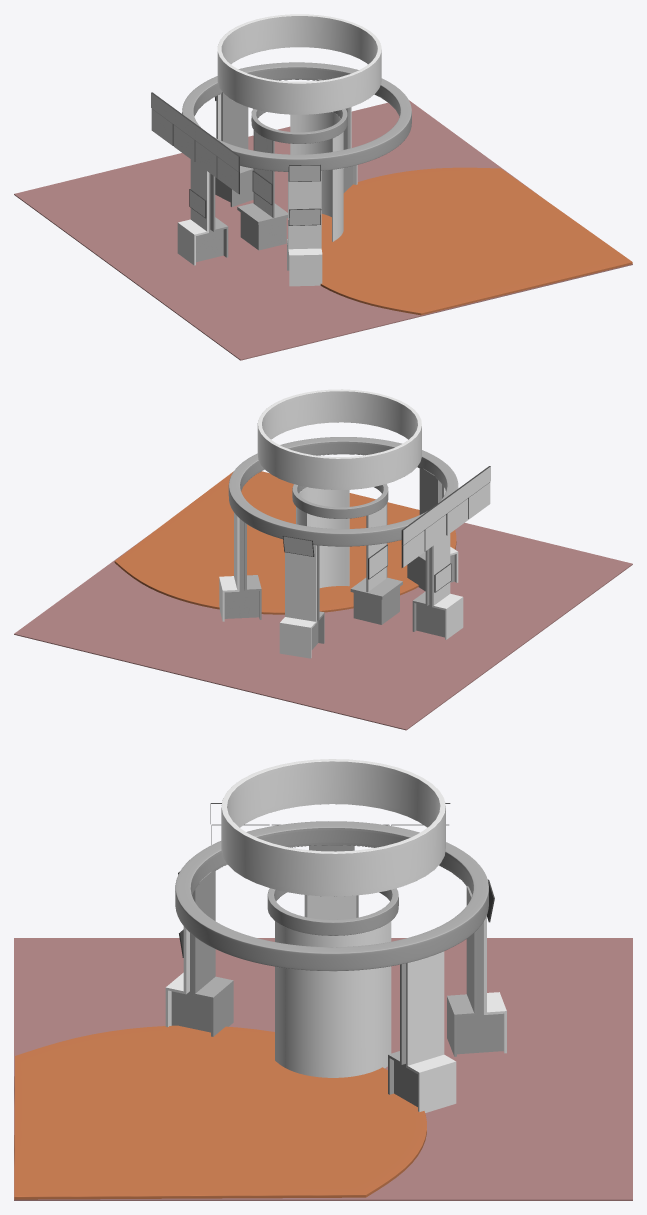
File: Dw_booth_V_02_GLTF.gltf
The picture shows the model from 3 angles, top to bottom: view 1: azimuth 30°, elevation 25°; view 2: azimuth 150°, elevation 25°; view 3: azimuth 270°, elevation 25°; orthographic projection. The views are drawn at different scales.
Visible parts, largest first — view 1: pPlane1, pCylinder1, polySurface26, polySurface22, polySurface62, polySurface67, polySurface69_node_0, polySurface19, polySurface59, polySurface36, pCube7, polySurface67_node_1 (+13 smaller); view 2: pPlane1, pCylinder1, polySurface26, polySurface22, polySurface62, polySurface67_node_0, polySurface19, polySurface59, polySurface36, polySurface71_node, polySurface69, pCube7 (+14 smaller); view 3: pPlane1, pCylinder1, polySurface26, polySurface62, polySurface22, polySurface67_node, polySurface19, polySurface69, polySurface59, polySurface71_node_0, polySurface69_node_0, polySurface27_node (+6 smaller).
Boxes of the visible parts, <box> form: pPlane1: <box>14,100,632,360</box>; pCylinder1: <box>320,167,632,315</box>; polySurface26: <box>217,14,381,114</box>; polySurface22: <box>182,62,411,171</box>; polySurface62: <box>290,112,343,241</box>; polySurface67: <box>288,171,322,256</box>; polySurface69_node_0: <box>221,92,253,206</box>; polySurface19: <box>193,67,400,116</box>; polySurface59: <box>251,108,347,143</box>; polySurface36: <box>151,93,238,171</box>; pCube7: <box>240,212,286,250</box>; polySurface67_node_1: <box>178,159,208,265</box>; pPlane1: <box>14,523,632,730</box>; pCylinder1: <box>114,471,456,614</box>; polySurface26: <box>257,389,421,489</box>; polySurface22: <box>228,437,458,546</box>; polySurface62: <box>296,487,349,587</box>; polySurface67_node_0: <box>280,545,316,657</box>; polySurface19: <box>240,441,446,491</box>; polySurface59: <box>292,484,388,518</box>; polySurface36: <box>403,466,490,544</box>; polySurface71_node: <box>224,519,258,618</box>; polySurface69: <box>407,468,439,591</box>; pCube7: <box>353,587,399,624</box>; pPlane1: <box>14,938,632,1200</box>; pCylinder1: <box>14,1025,426,1199</box>; polySurface26: <box>221,759,445,896</box>; polySurface62: <box>275,921,391,1077</box>; polySurface22: <box>175,821,488,971</box>; polySurface67_node: <box>406,951,455,1111</box>; polySurface19: <box>190,828,473,895</box>; polySurface69: <box>192,871,233,1036</box>; polySurface59: <box>267,888,398,935</box>; polySurface71_node_0: <box>457,922,503,1054</box>; polySurface69_node_0: <box>447,886,477,1056</box>; polySurface27_node: <box>419,1061,456,1112</box>.
Size of the model in its own units: 30.63 by 14.33 by 30.63.
